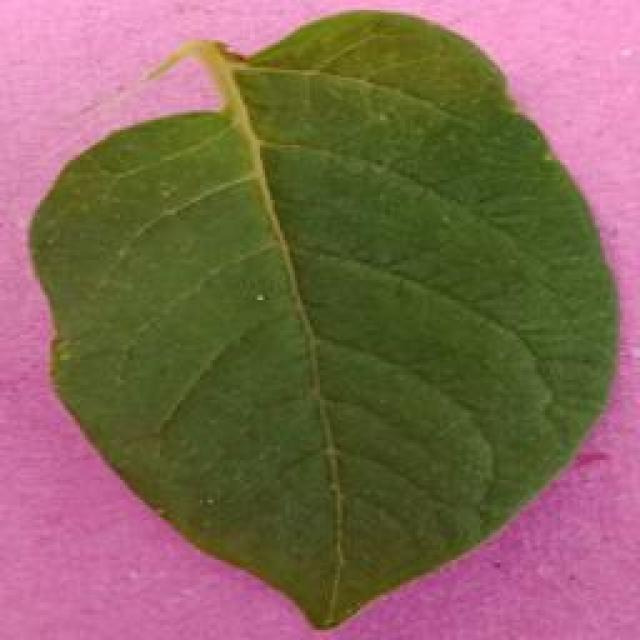Potato_Healthy: (27, 12, 608, 628)
